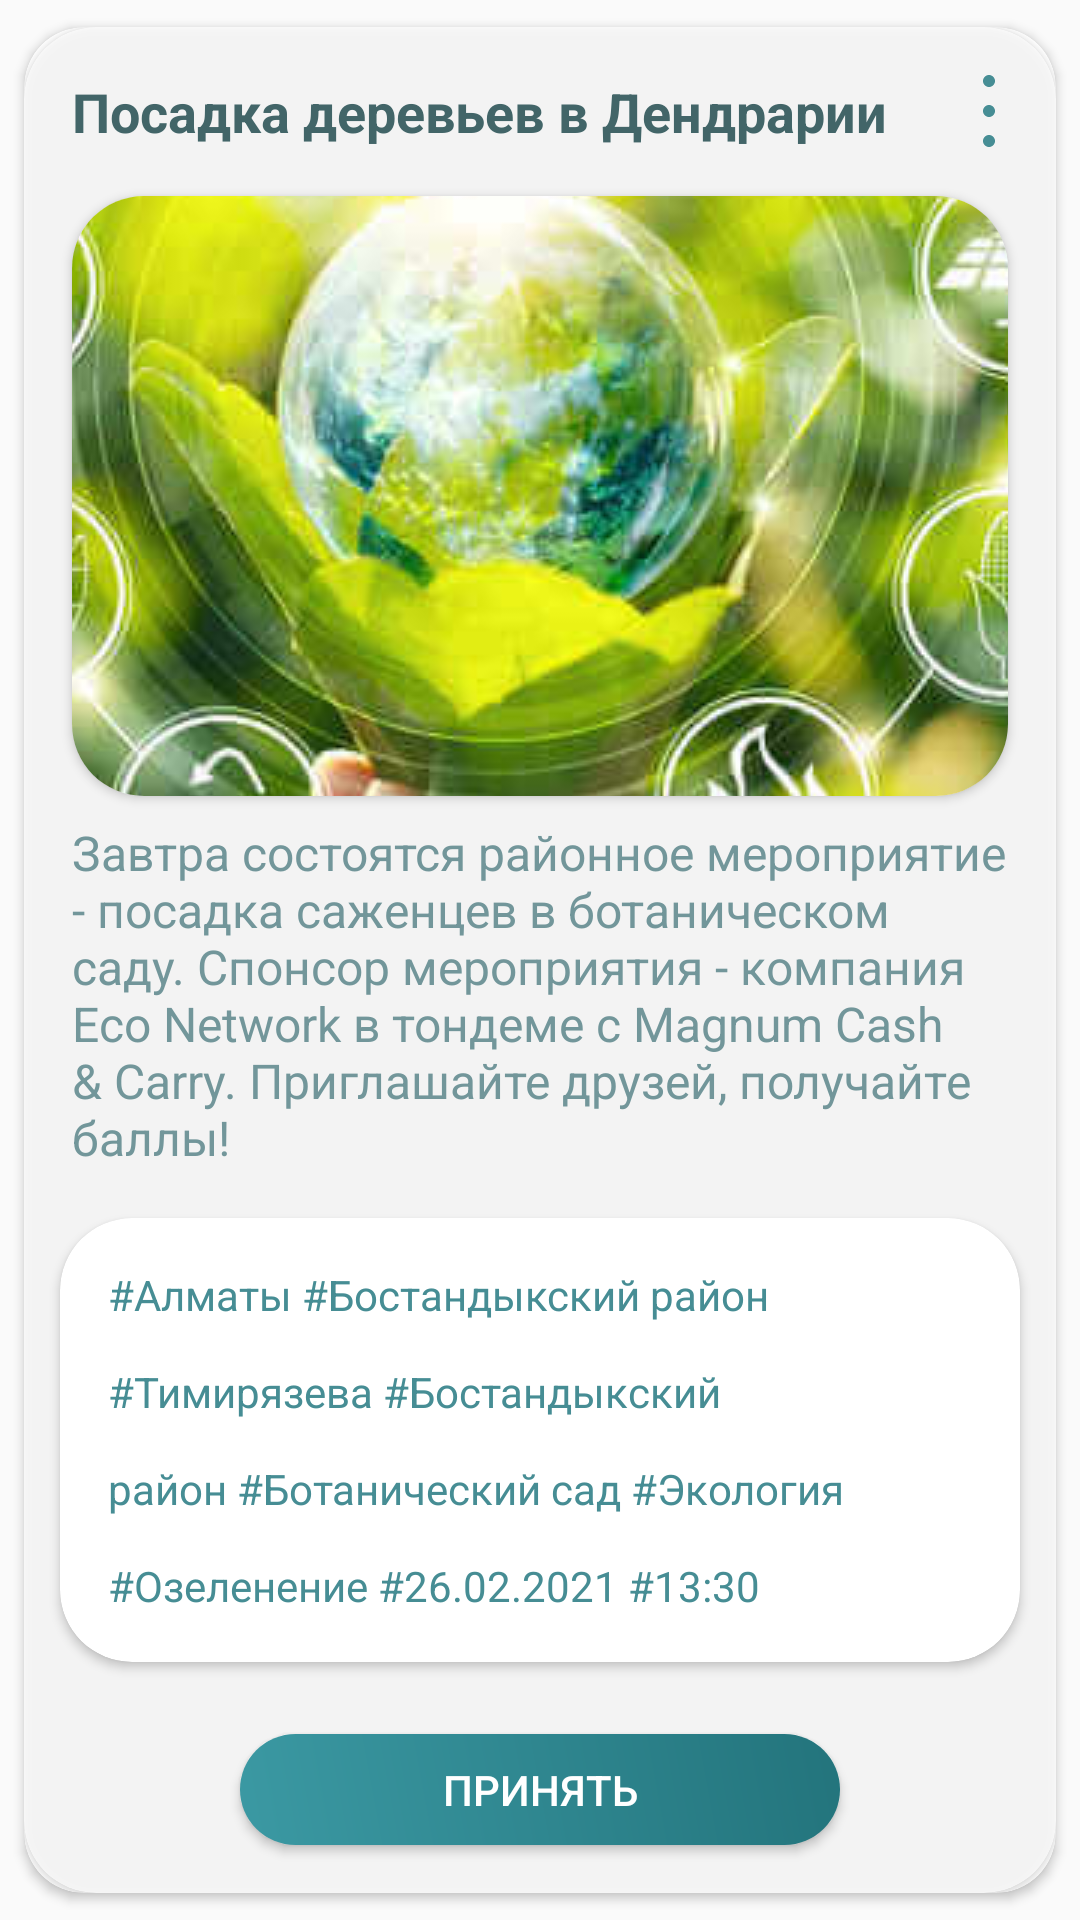

Icons on this 1080px x 1920px Android screen, each with its box as (x1, y1, x2, y2):
dots vertical: (983, 75, 995, 147)
